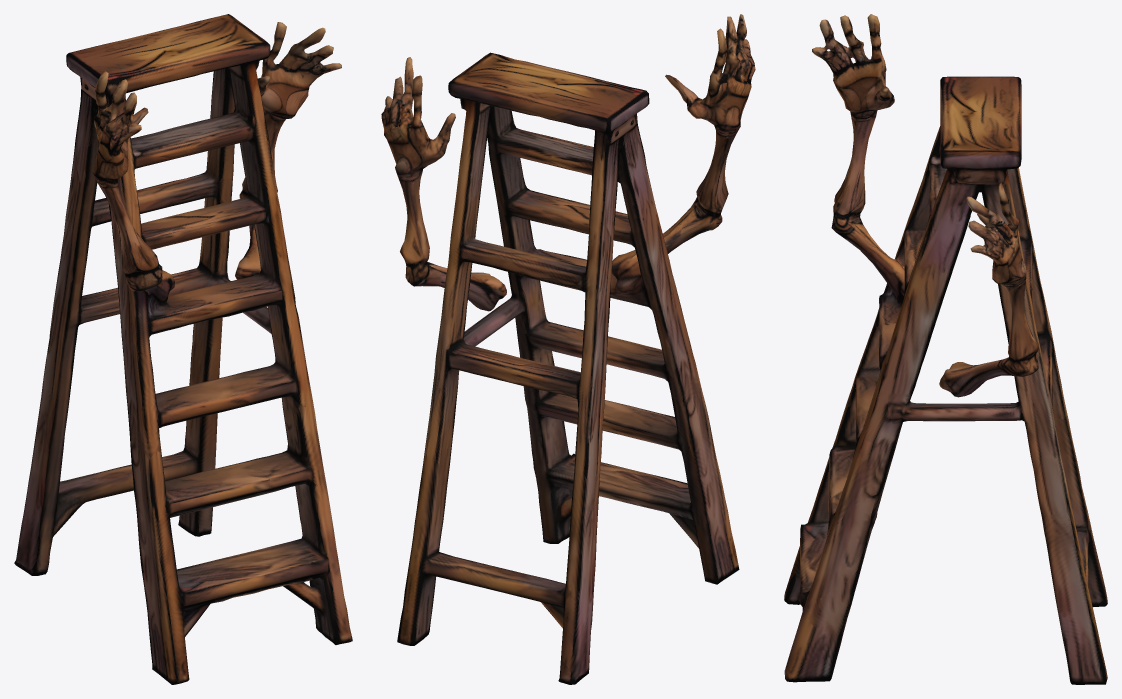
File: Ladder_Keeper.glb
3 renders of one model, left to right at view 1: azimuth 30°, elevation 25°; view 2: azimuth 150°, elevation 25°; view 3: azimuth 270°, elevation 25°, orthographic. The views are drawn at different scales.
Parts seen in each view (by area): view 1: geometry_0; view 2: geometry_0; view 3: geometry_0.
Boxes of the visible parts, left/top/right/bottom form: geometry_0: left=14, top=14, right=352, bottom=684; geometry_0: left=381, top=14, right=755, bottom=684; geometry_0: left=784, top=14, right=1107, bottom=684.
Bounding box in the file's own units: 0.8103 × 1.5 × 0.7678.
1 material, 1 textured.
